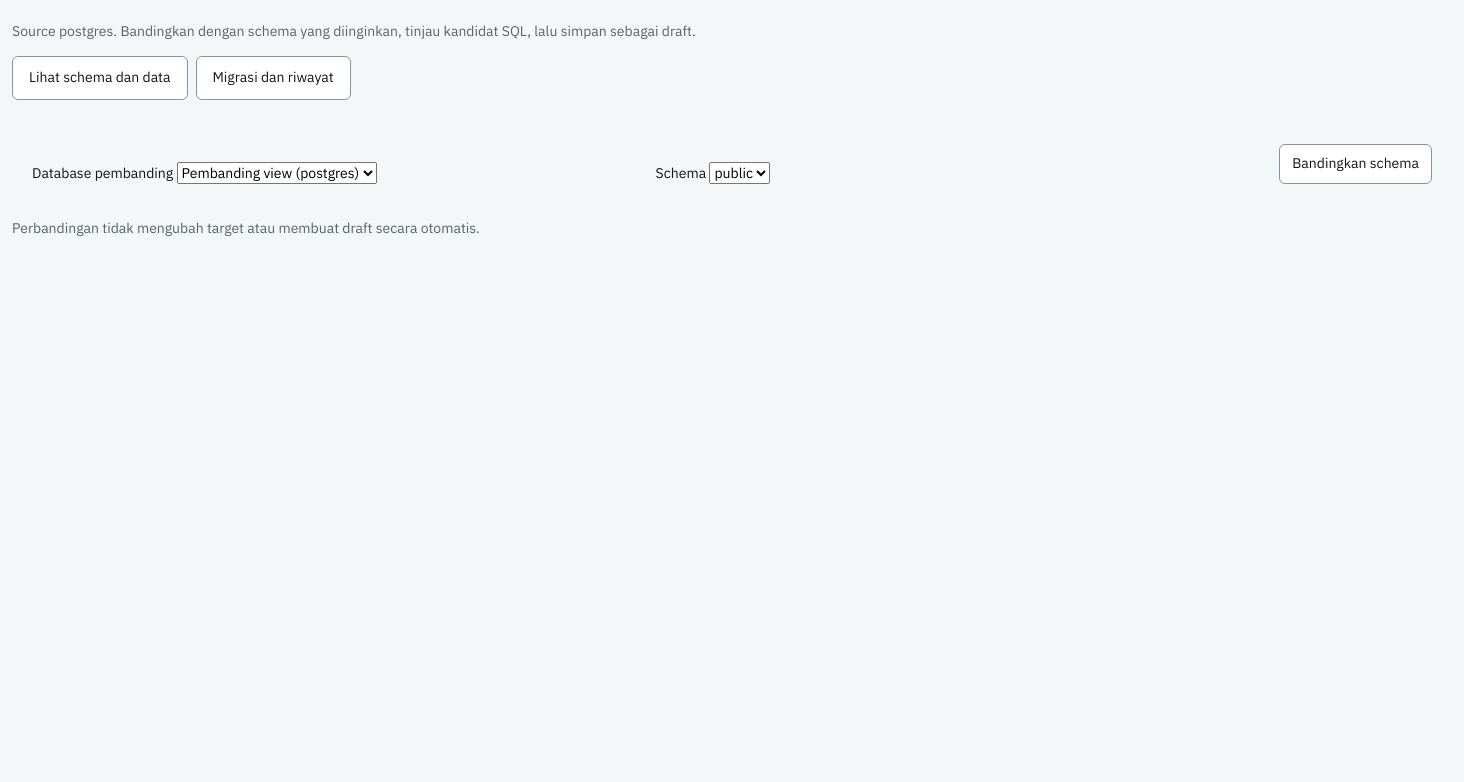
Test: preserves input when saving returns 401 and never resends automatically
The width and height of the screenshot is (1464, 782).
Click the button "Bandingkan schema": (1356, 164) 1279,144 -> 1432,184
(page scrolled)
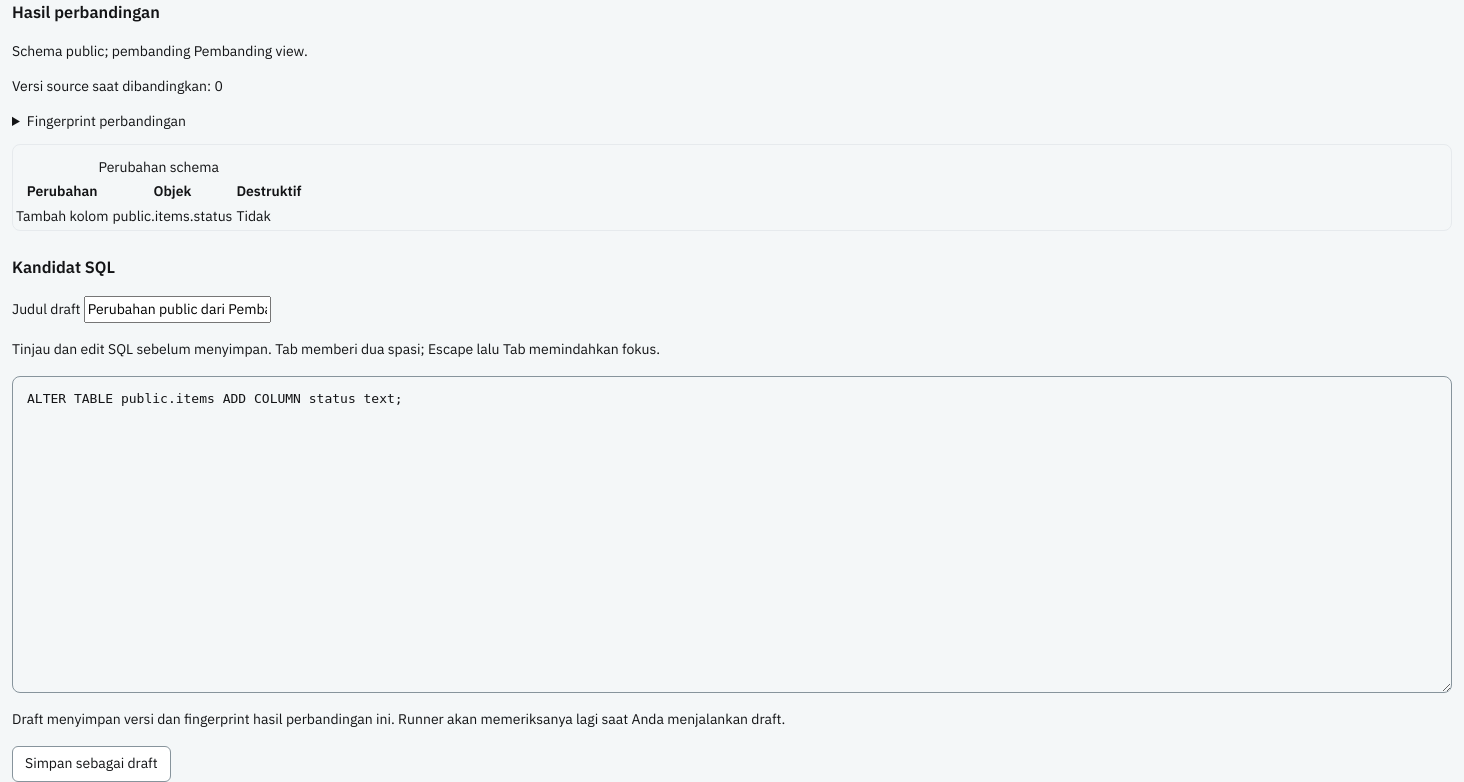
Replace the text in the text box named "SQL migrasi" with "SELECT 'SQL terbaru';": (732, 534) 12,376 -> 1452,693
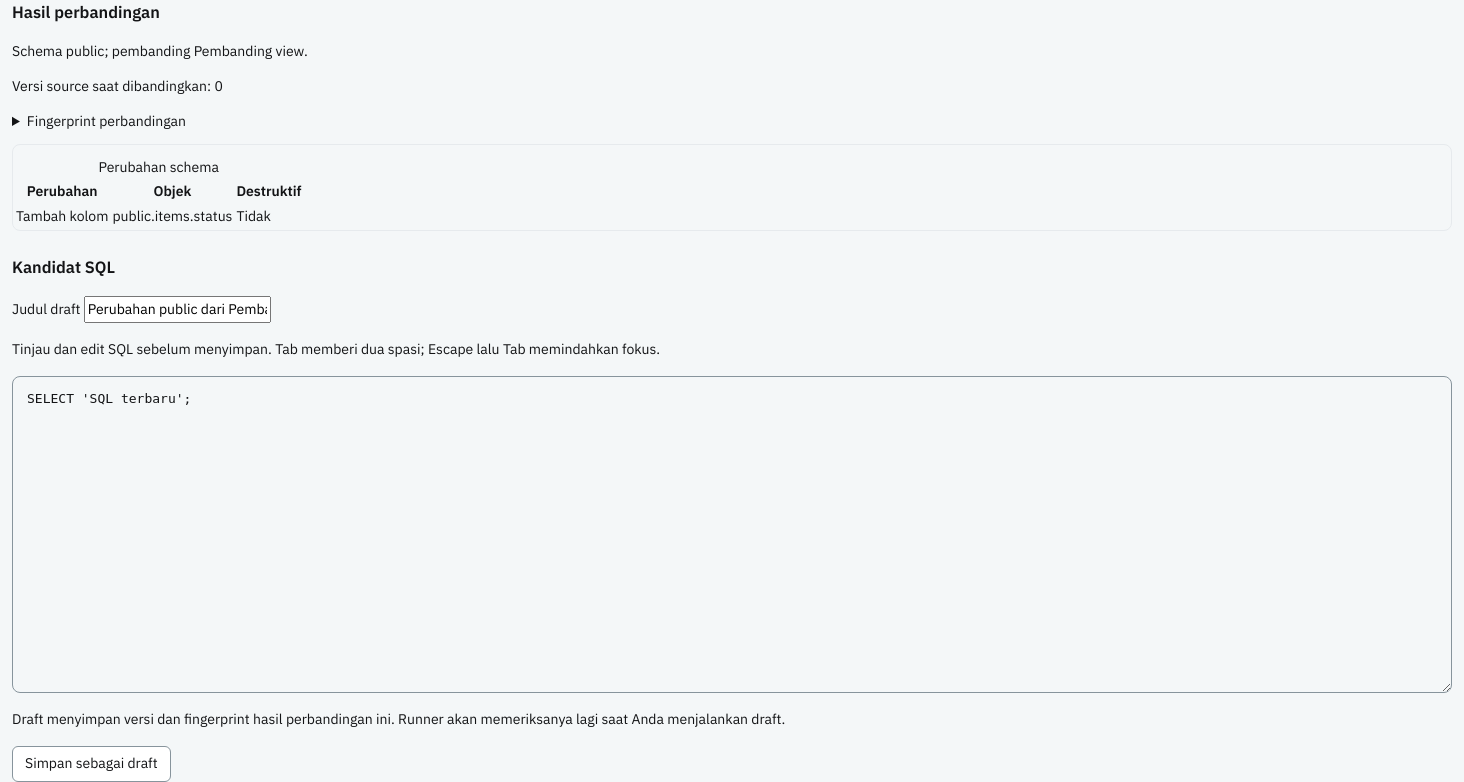
Click the button "Simpan sebagai draft": (91, 764) 12,746 -> 171,781
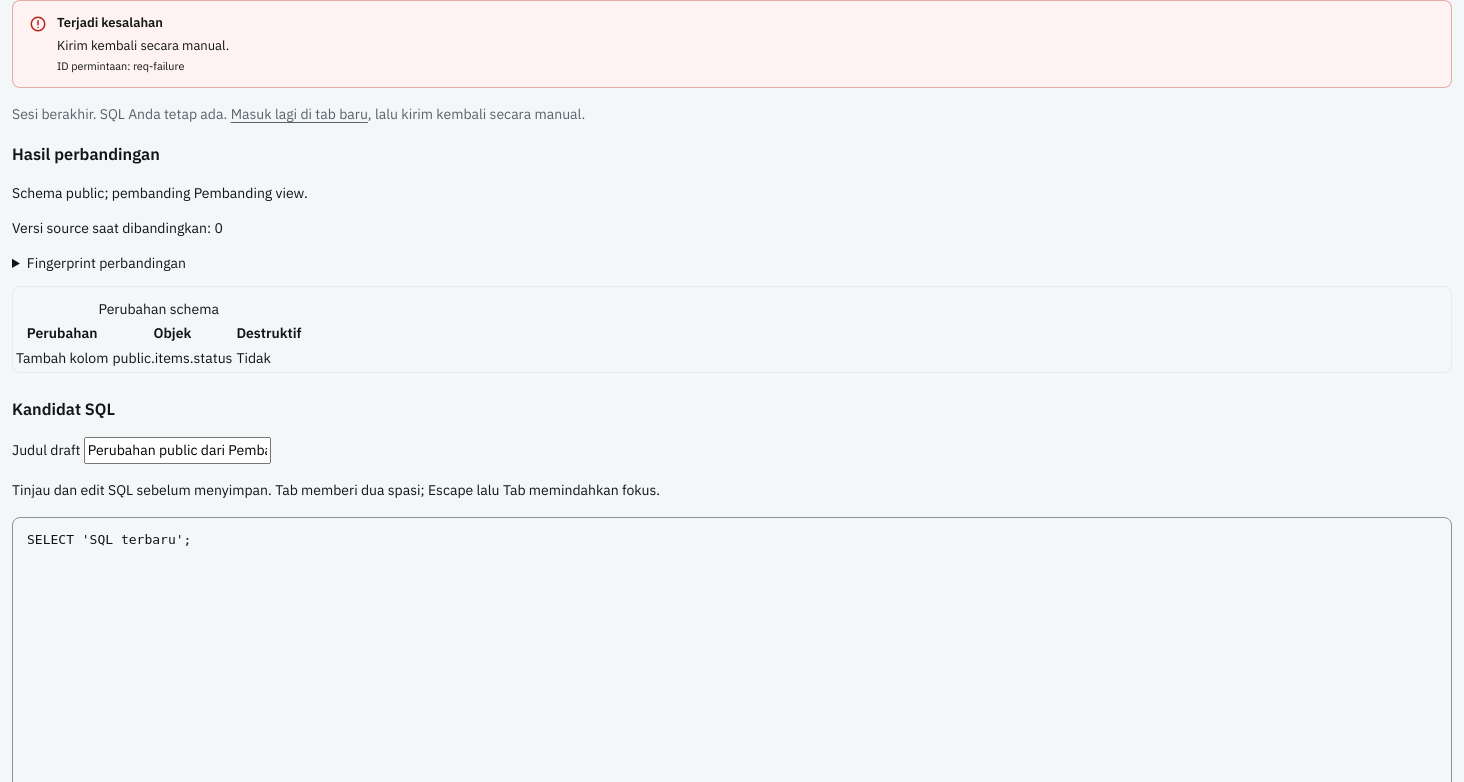
Check: the text "Kirim kembali secara manual." is shown, box 57,37 -> 229,54
